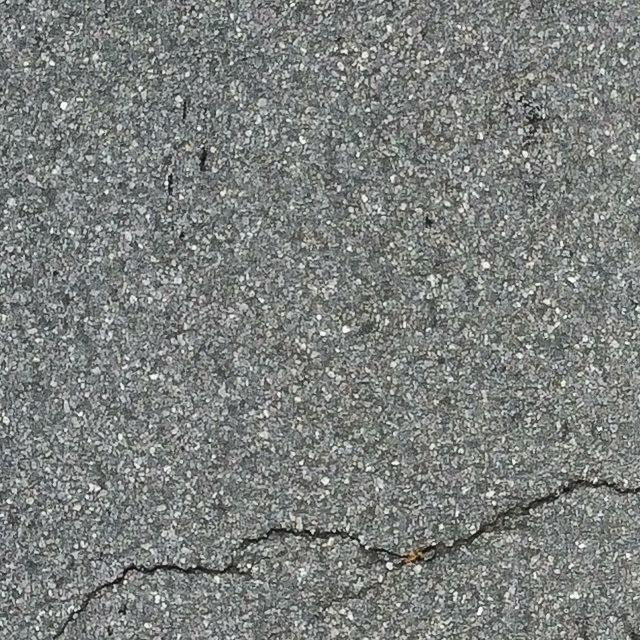TransverseCrack: (52, 477, 640, 639)
